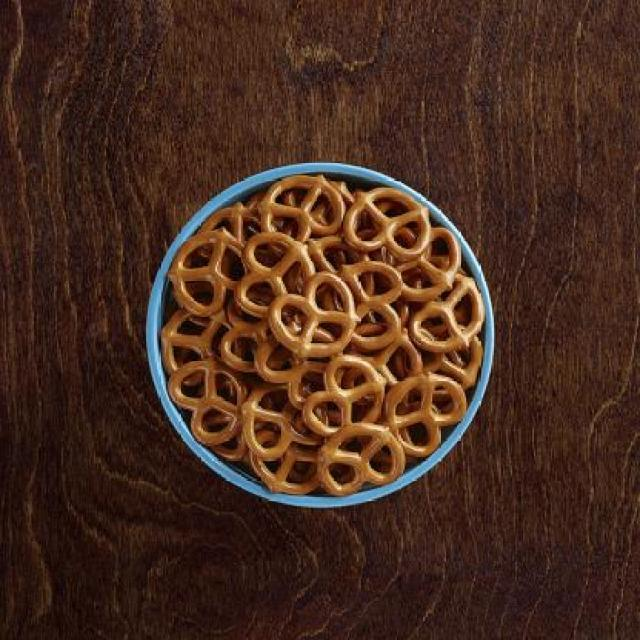Salatini packaged: (152, 174, 488, 494)
